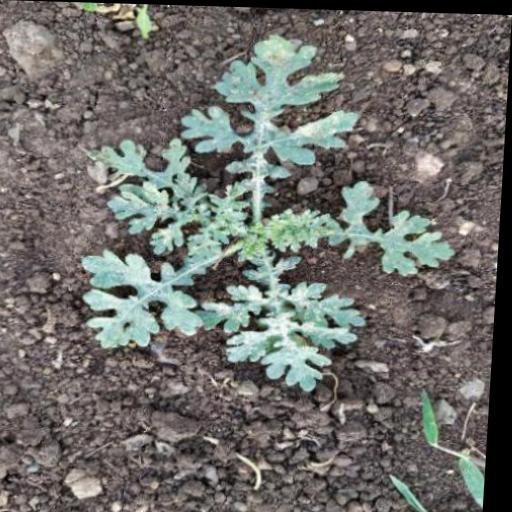weed: (79, 28, 496, 393)
